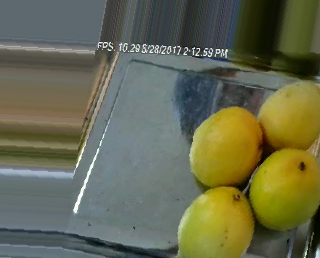Mango: (186, 103, 265, 190), (252, 144, 320, 232), (175, 185, 257, 256), (255, 76, 320, 152)
